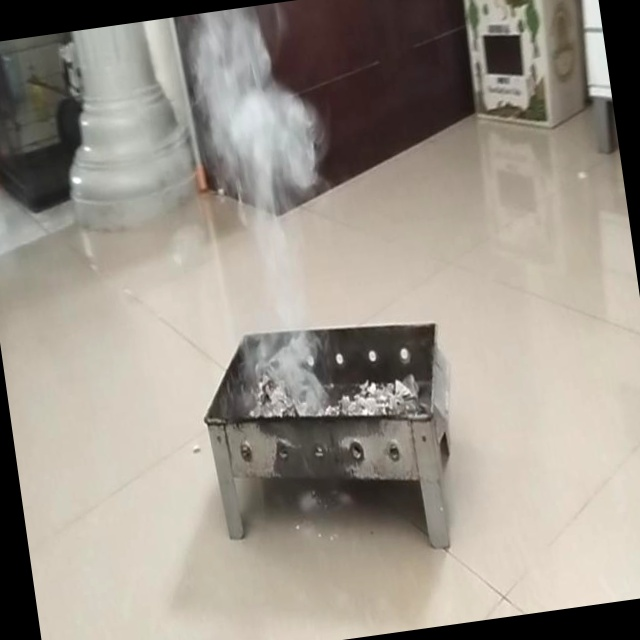smoke: (181, 2, 363, 406)
